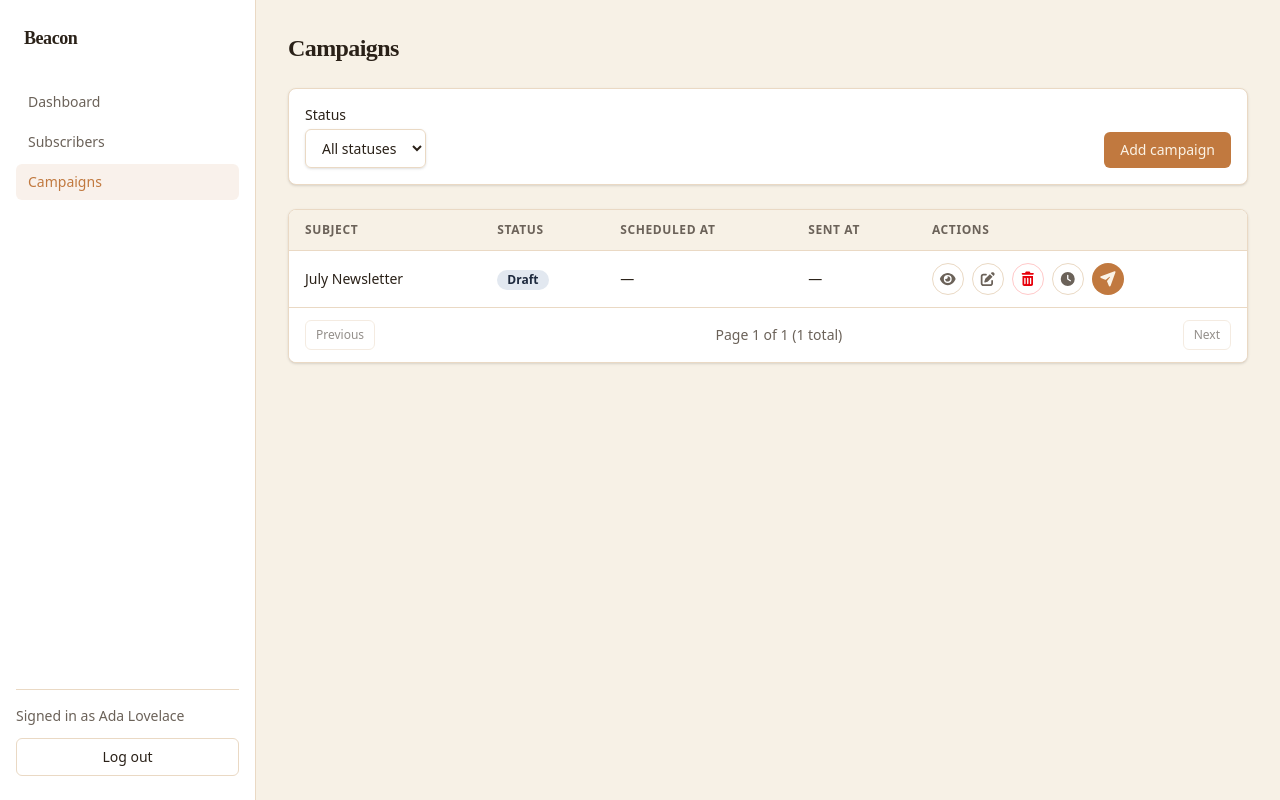
Test: CampaignListPage › edits a draft campaign
Expected: the text "July Newsletter" is shown, [289,250,481,307]
Click the button named "Edit" at coordinates (988, 279), box [972,263,1004,295]
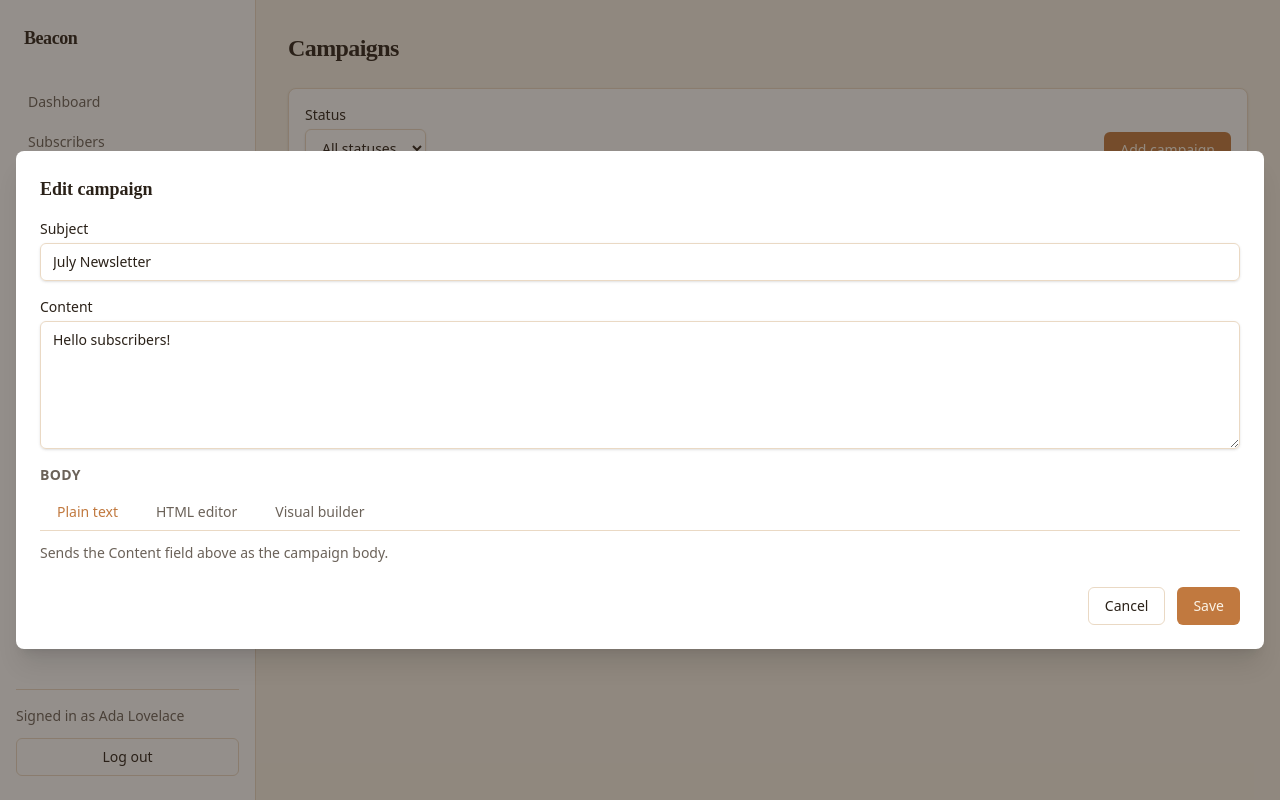
Replace the text in the field labelled "Subject" with "Updated Subject" at coordinates (640, 262), box [40,243,1240,281]
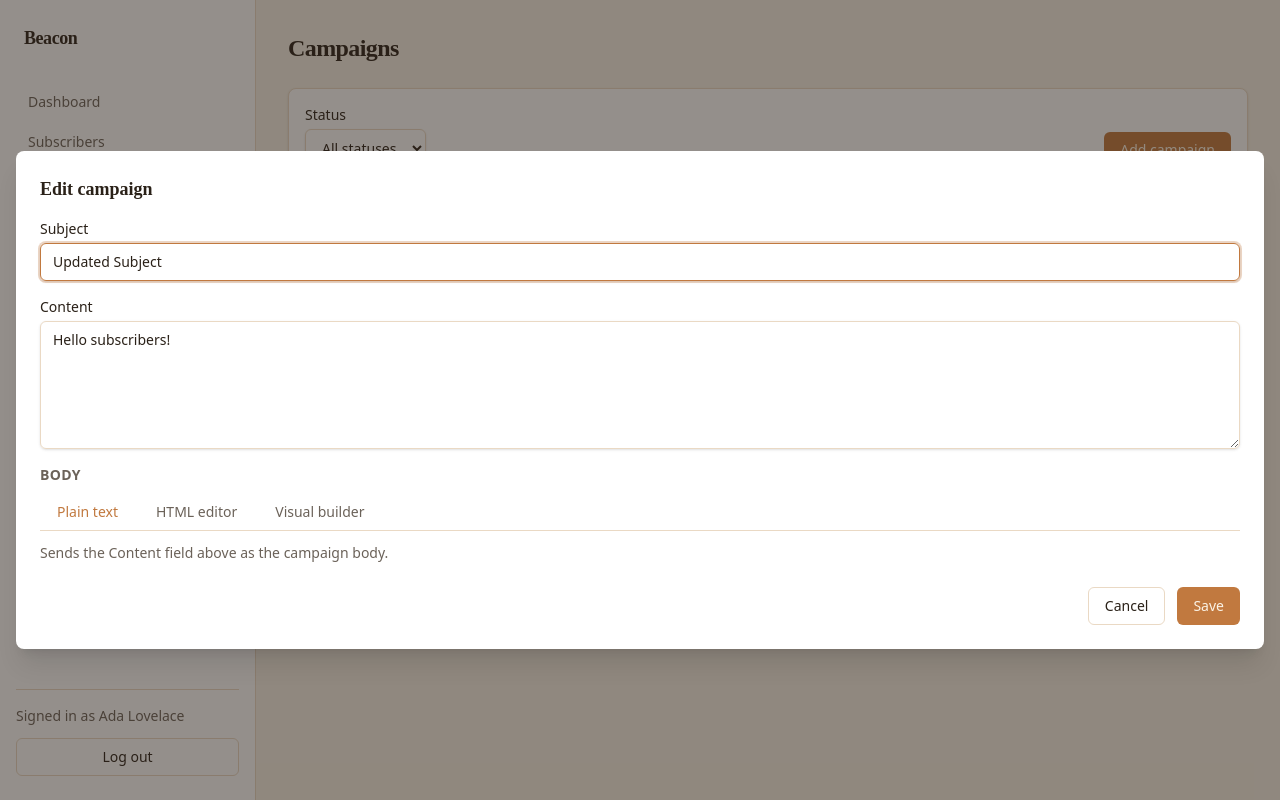
Click the button "Save" at coordinates (1209, 606), box [1177,587,1240,625]
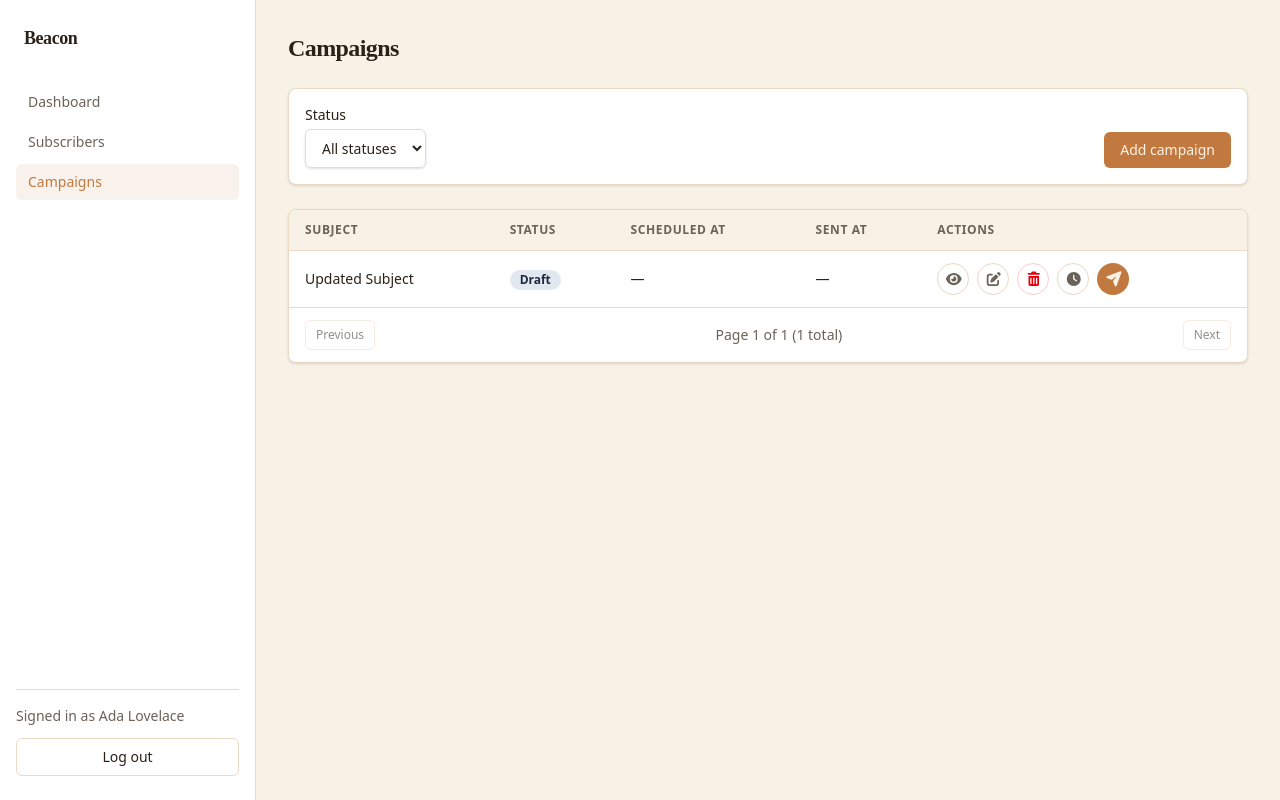
Now the dialog is gone
Now the text "Updated Subject" is shown, box [289,250,494,307]
